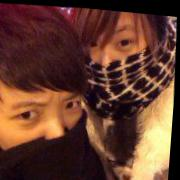WRONG: (1, 68, 93, 180), (85, 10, 153, 91)
